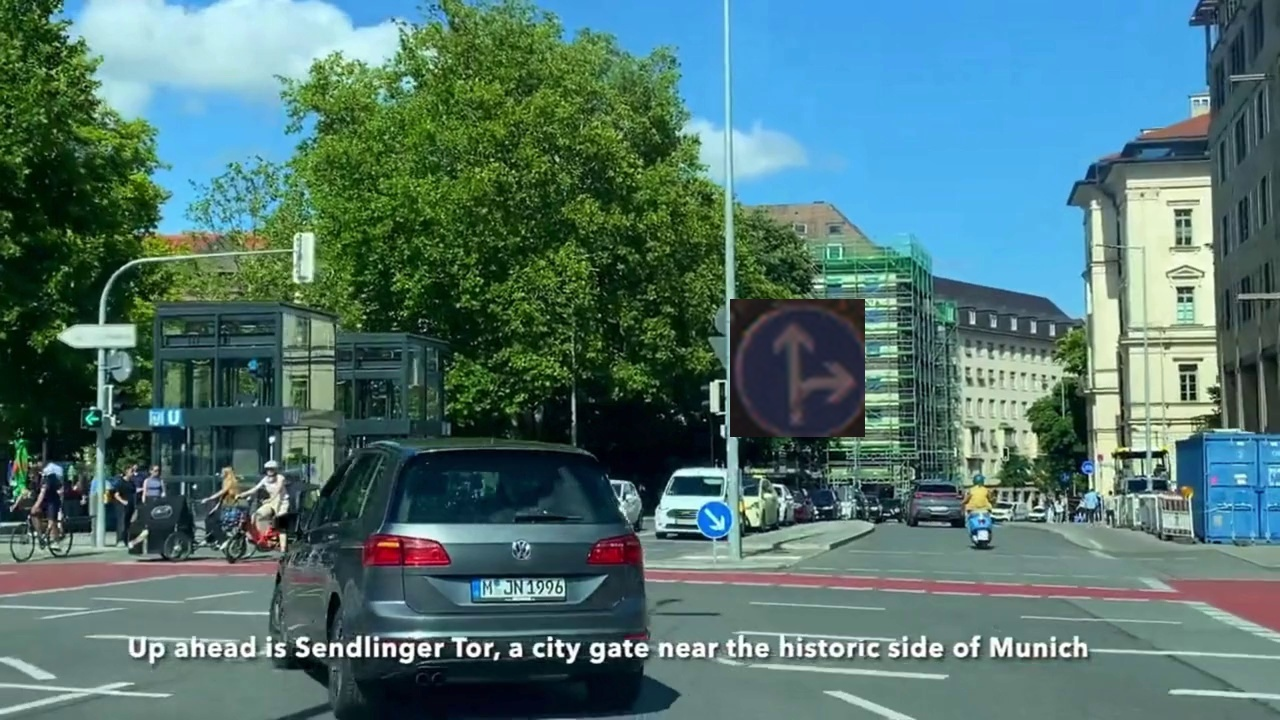Straight/right: (730, 299, 865, 437)
